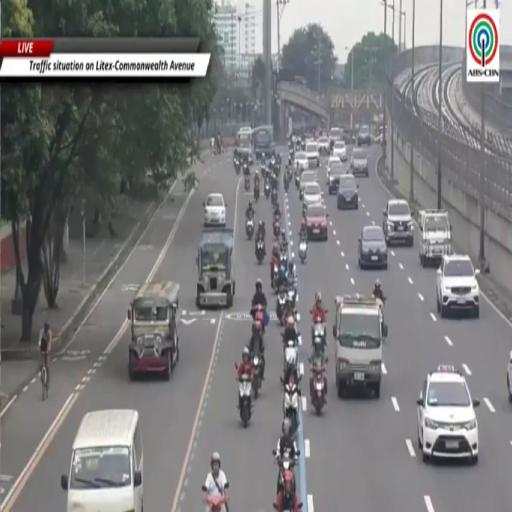car: (417, 365, 479, 463), (436, 254, 479, 317), (383, 199, 413, 247), (358, 225, 388, 270), (305, 204, 328, 241), (337, 174, 359, 210), (328, 164, 352, 195), (204, 194, 226, 227), (303, 183, 323, 211), (300, 171, 317, 200), (351, 149, 368, 177), (327, 156, 341, 183), (306, 141, 320, 168), (329, 127, 344, 149), (357, 125, 372, 146), (333, 141, 347, 161), (294, 152, 308, 171), (507, 351, 511, 403), (318, 136, 329, 153)
jeepney: (128, 282, 179, 379), (196, 229, 235, 308)
motorcycle: (311, 358, 328, 415), (283, 382, 300, 434), (276, 450, 296, 493), (239, 374, 253, 427), (312, 319, 326, 355), (376, 298, 387, 342), (284, 340, 297, 375), (253, 356, 263, 399), (275, 255, 287, 290), (276, 287, 286, 325), (312, 316, 326, 343), (313, 332, 324, 356), (256, 239, 265, 264), (287, 284, 296, 309), (271, 265, 278, 291), (246, 218, 254, 239), (299, 240, 306, 264), (273, 216, 280, 238), (285, 503, 303, 511), (271, 188, 278, 206), (243, 160, 250, 177), (264, 181, 270, 199), (254, 186, 260, 202), (234, 159, 240, 174), (245, 175, 250, 191), (284, 173, 288, 193), (289, 146, 294, 159), (295, 174, 299, 188), (202, 486, 208, 492)
truck: (333, 296, 387, 397), (418, 210, 452, 267), (254, 125, 274, 161)
